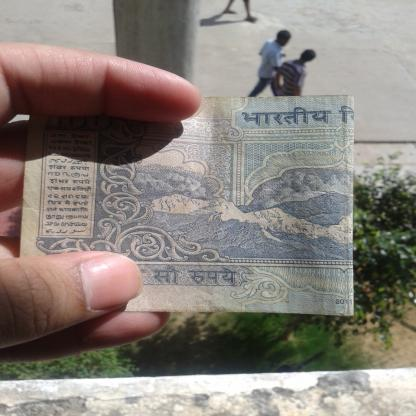Old100Back: (16, 92, 358, 319)
